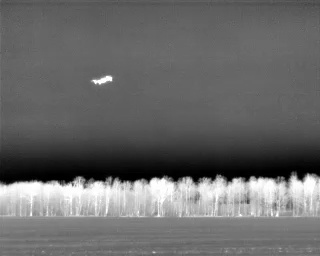DRONE: (87, 70, 117, 90)
